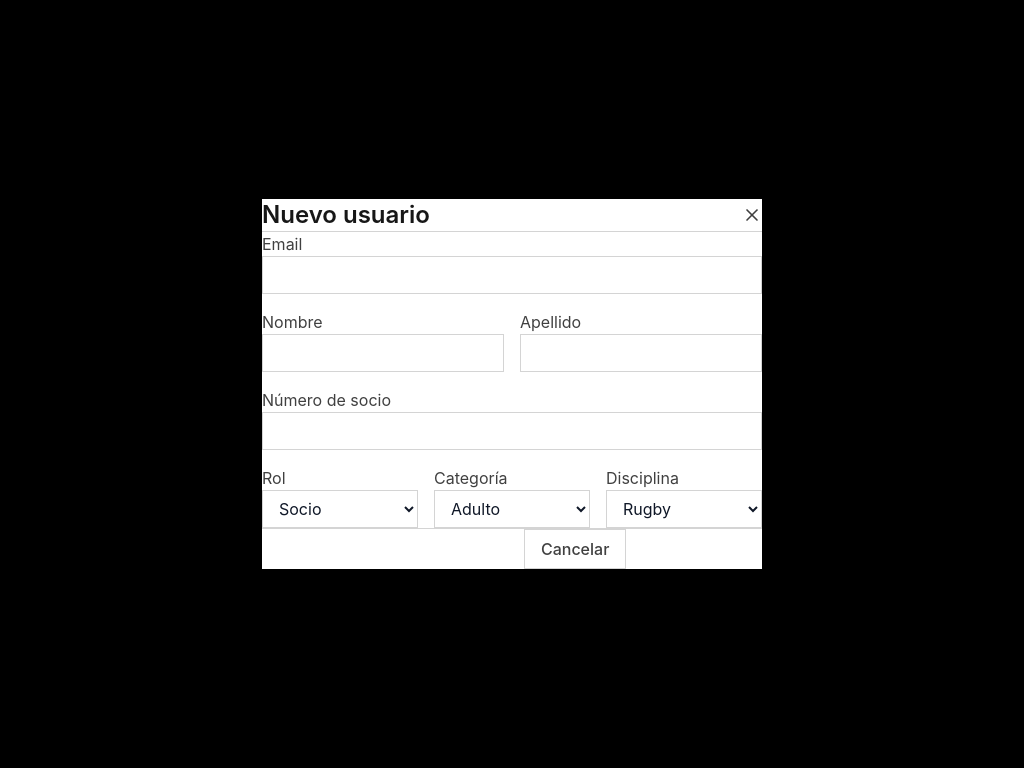
Test: CreateUserModal › submits valid form data
The image size is (1024, 768).
Type "test@vicentinos.com" into the field labelled "Email".
click(512, 275); type("test@vicentinos.com")  # box [262, 256, 762, 294]
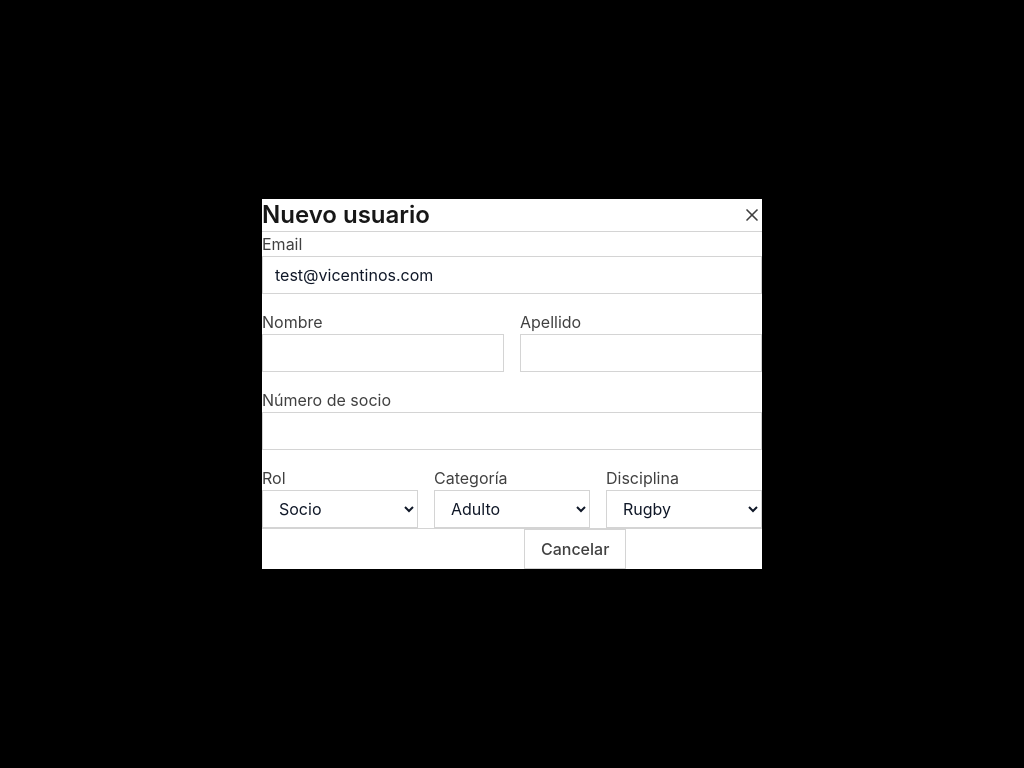
Type "Test" into the field labelled "Nombre".
click(383, 353); type("Test")  # box [262, 334, 504, 372]
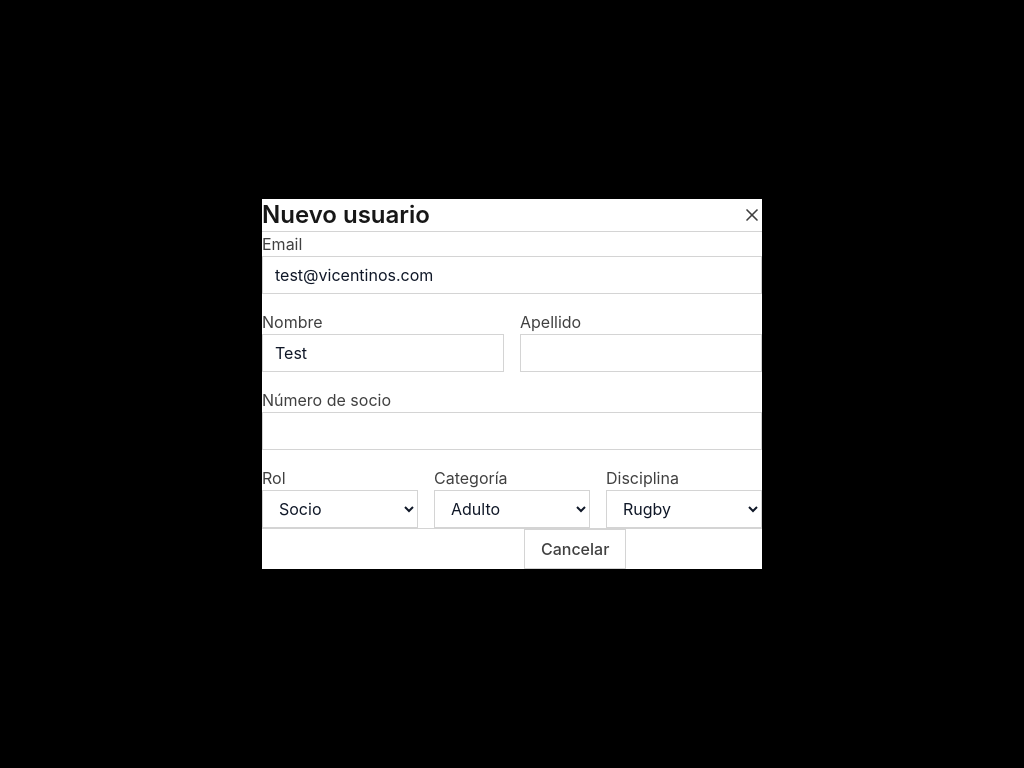
Type "User" into the field labelled "Apellido".
click(641, 353); type("User")  # box [520, 334, 762, 372]
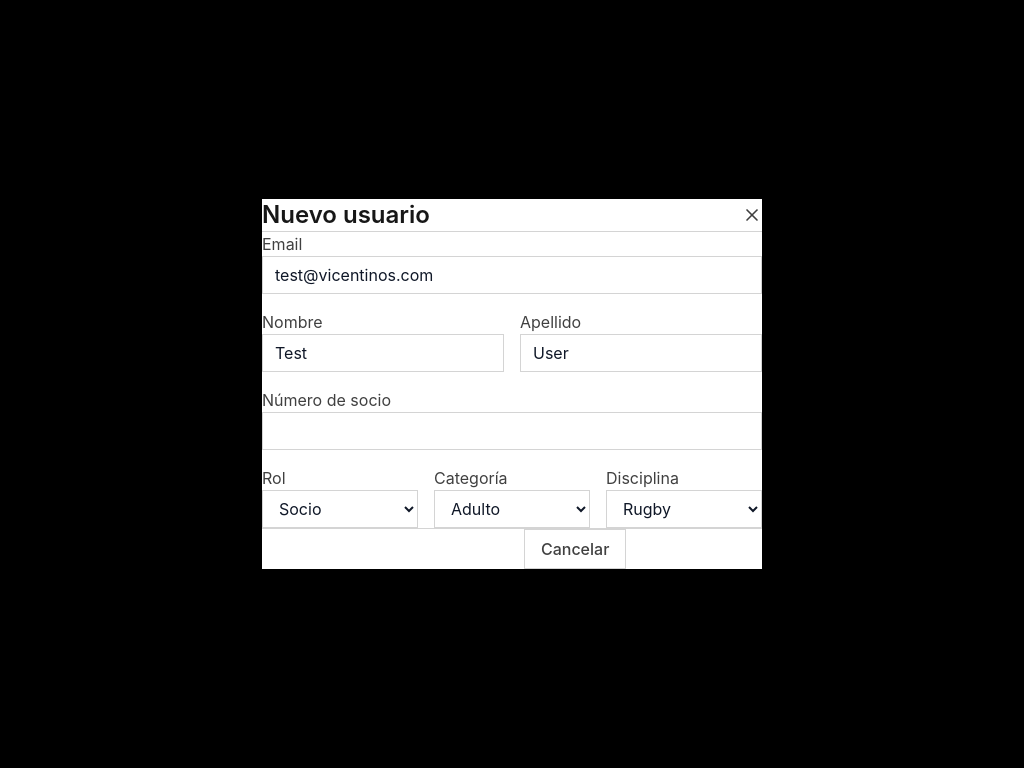
Type "123" into the field labelled "Número de socio".
click(512, 431); type("123")  # box [262, 412, 762, 450]
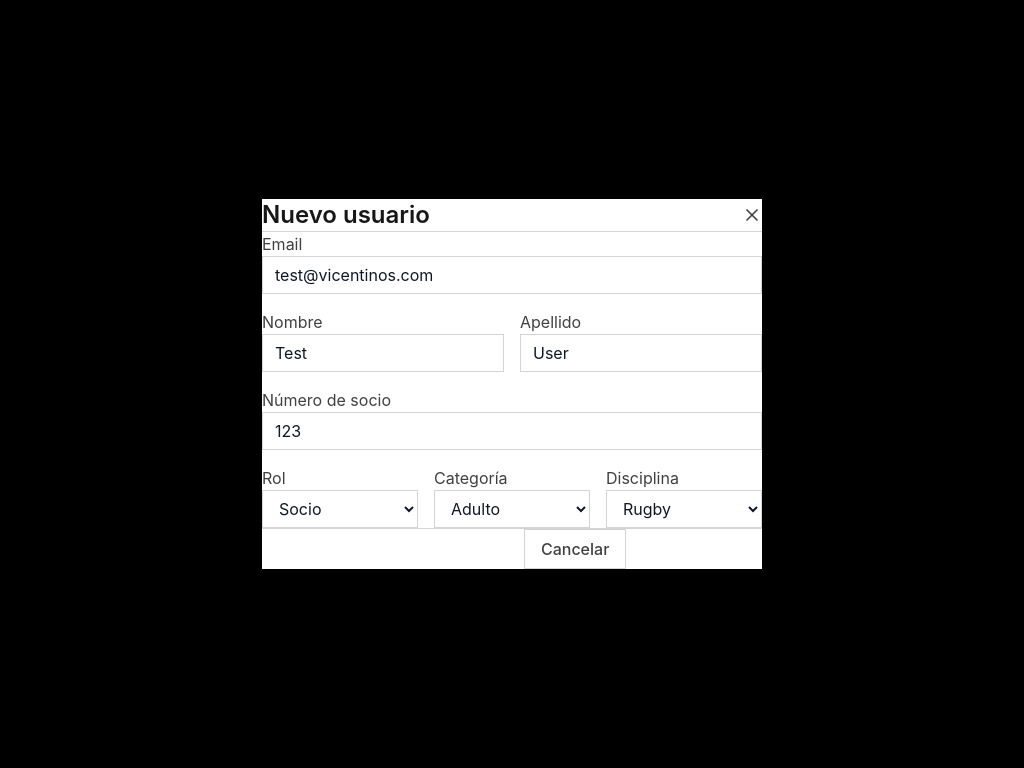
Click the button "Crear usuario".
click(694, 549)  # box [626, 529, 762, 569]
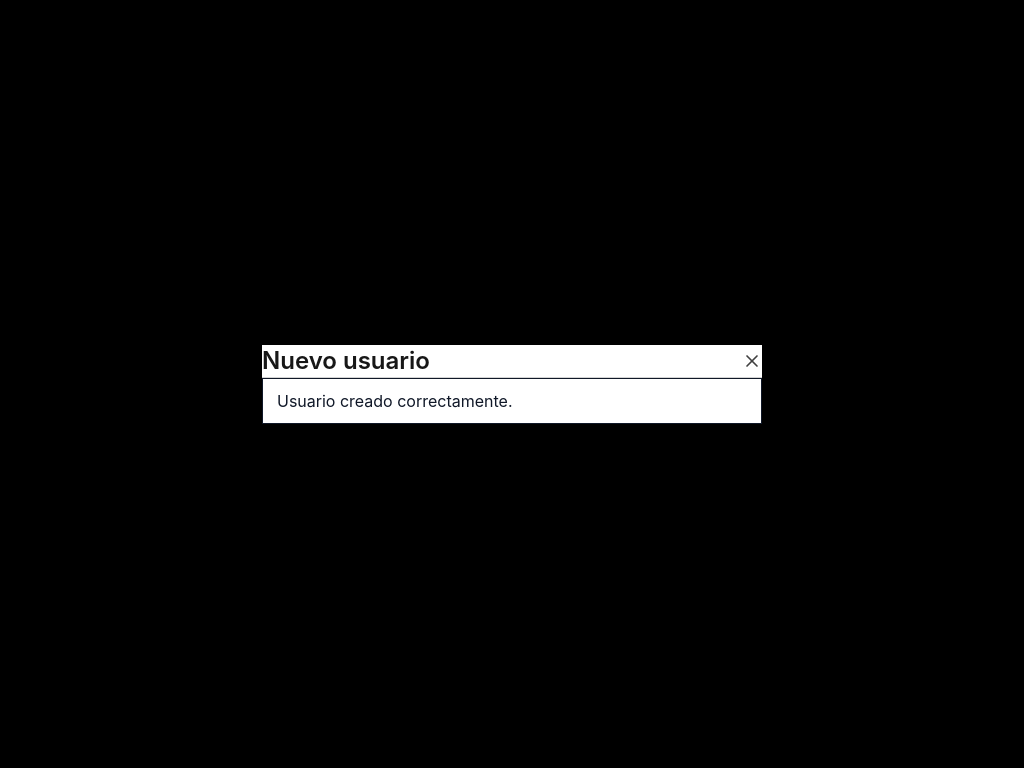
Expected: the text "Usuario creado correctamente." is shown, [277, 390, 512, 410]
